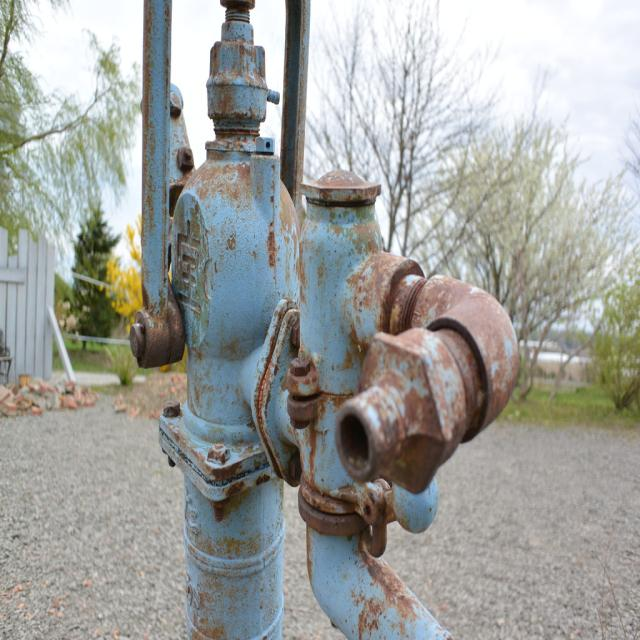fire_hydrant: (128, 0, 518, 639)
